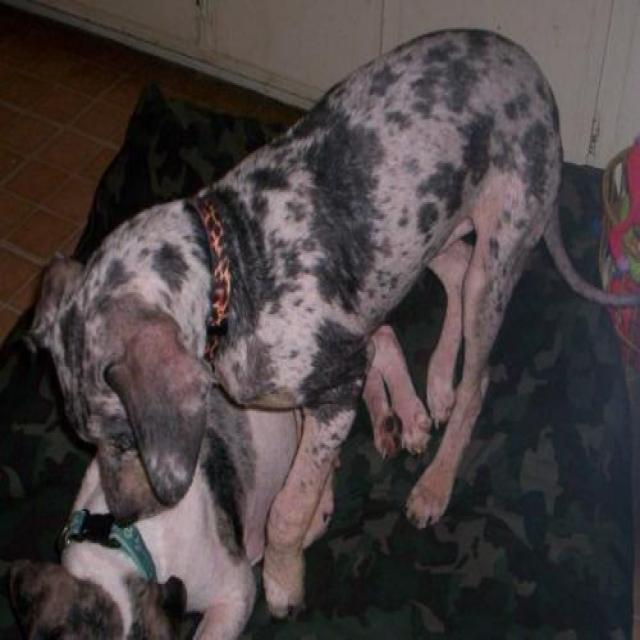Dogs: (10, 26, 639, 638)
